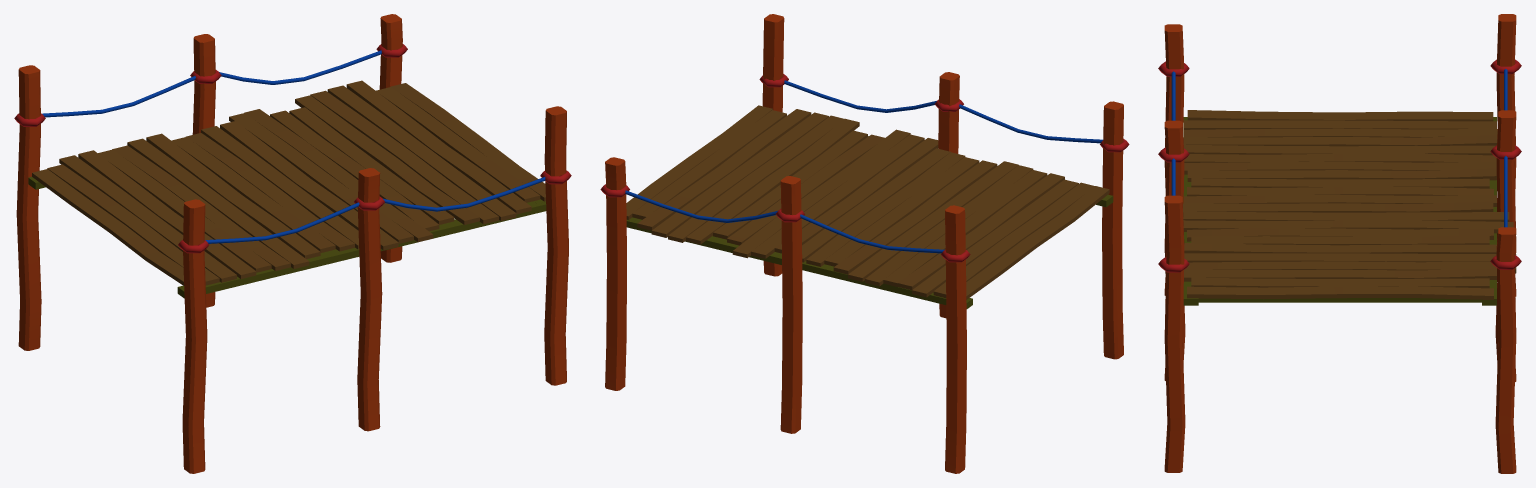
The model's file is LowPoly Ponton.FBX.
The picture shows the model from 3 angles, left to right: view 1: azimuth 30°, elevation 25°; view 2: azimuth 150°, elevation 25°; view 3: azimuth 270°, elevation 25°; orthographic projection. The views are drawn at different scales.
Parts seen in each view (by area): view 1: Box001, Object, Cylinder003, Box021, Torus004; view 2: Box001, Object, Cylinder003, Box021, Torus004; view 3: Box001, Object, Box021, Torus004, Cylinder003.
Part boxes in pixels (x1,y1,x2,y2): Box001: (32, 80, 545, 285); Object: (16, 14, 568, 473); Cylinder003: (42, 50, 545, 243); Box021: (28, 176, 546, 298); Torus004: (14, 44, 571, 253); Box001: (626, 105, 1109, 299); Object: (605, 14, 1123, 473); Cylinder003: (625, 80, 1102, 253); Box021: (626, 136, 1113, 308); Torus004: (600, 74, 1129, 262); Box001: (1183, 110, 1516, 299); Object: (1164, 14, 1516, 473); Box021: (1183, 117, 1496, 305); Torus004: (1158, 59, 1521, 272); Cylinder003: (1171, 69, 1507, 227).
Size of the model in its own units: 300 by 204 by 244.
